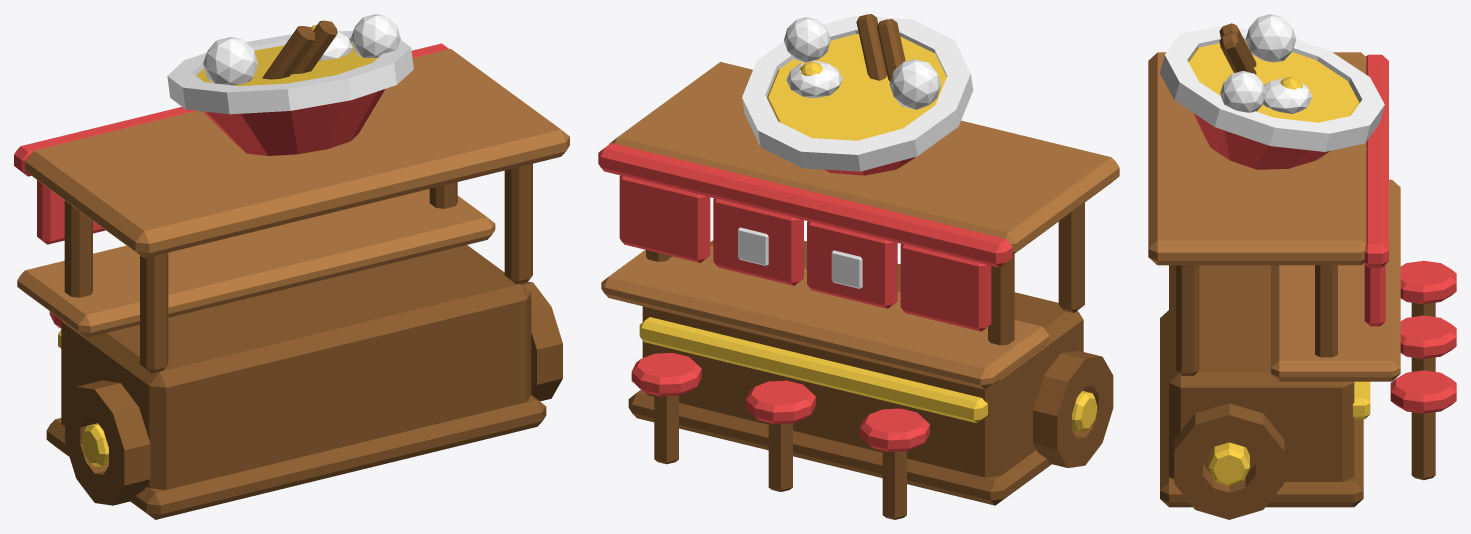
The model's file is Prop_shared_RamenStand.glb.
3 renders of one model, left to right at view 1: azimuth 30°, elevation 25°; view 2: azimuth 150°, elevation 25°; view 3: azimuth 270°, elevation 25°, orthographic. The views are drawn at different scales.
Visible parts, largest first — view 1: WoodDark_8A5A2B, Wood_B5793F, White_FFFFFF, Red_F04848, Yellow_FFD23F; view 2: Wood_B5793F, WoodDark_8A5A2B, Red_F04848, Yellow_FFD23F, White_FFFFFF; view 3: WoodDark_8A5A2B, Wood_B5793F, Red_F04848, White_FFFFFF, Yellow_FFD23F.
Boxes of the visible parts, x1=… form: WoodDark_8A5A2B: x1=46, y1=20, x2=562, y2=519; Wood_B5793F: x1=17, y1=49, x2=569, y2=337; White_FFFFFF: x1=167, y1=14, x2=413, y2=114; Red_F04848: x1=14, y1=43, x2=448, y2=328; Yellow_FFD23F: x1=58, y1=24, x2=377, y2=466; Wood_B5793F: x1=601, y1=62, x2=1119, y2=389; WoodDark_8A5A2B: x1=628, y1=14, x2=1113, y2=519; Red_F04848: x1=598, y1=143, x2=1012, y2=451; Yellow_FFD23F: x1=639, y1=34, x2=1097, y2=431; White_FFFFFF: x1=738, y1=16, x2=973, y2=288; WoodDark_8A5A2B: x1=1160, y1=23, x2=1435, y2=519; Wood_B5793F: x1=1148, y1=52, x2=1400, y2=381; Red_F04848: x1=1193, y1=54, x2=1456, y2=413; White_FFFFFF: x1=1160, y1=14, x2=1384, y2=151; Yellow_FFD23F: x1=1188, y1=42, x2=1370, y2=486.
Bounding box in the file's own units: 10.3 × 9.36 × 6.66.
